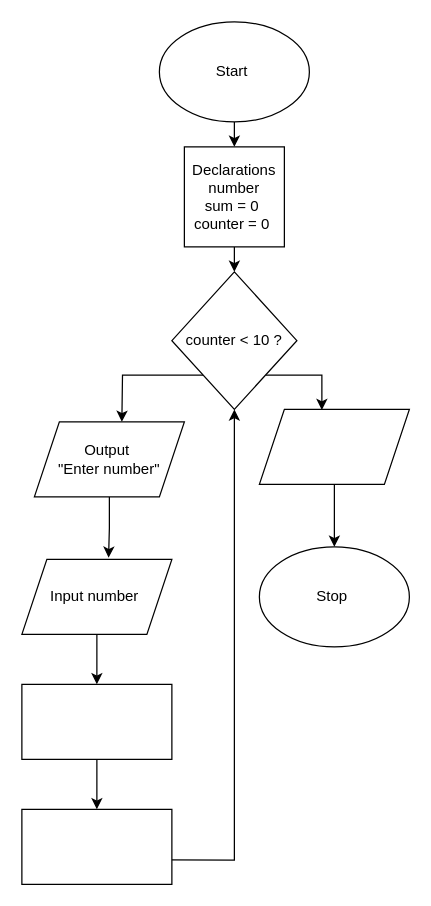
This 431x906 diagram has some shape labels left out. The centre of each missing label's shape, as x and y in pixels:
counter = counter + 1: (96,846)
Output "Total sum=", sum: (333,446)
sum = sum + number: (96,721)
